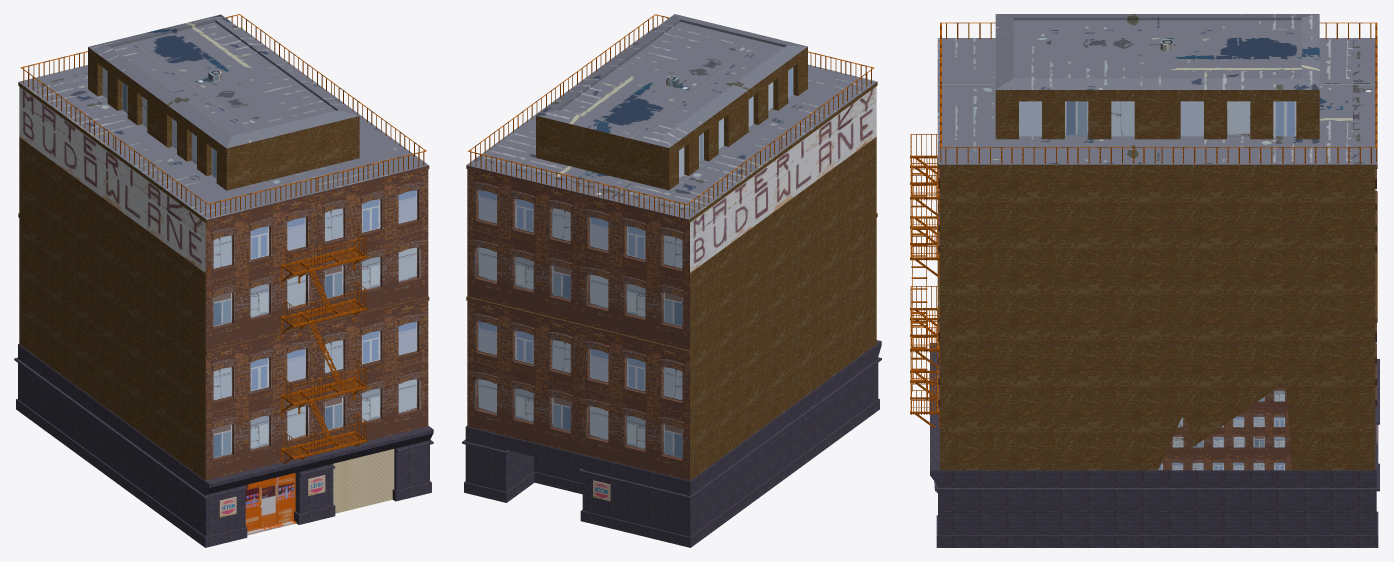
Rendered from A13_Destr.FBX.
3 renders of one model, left to right at view 1: azimuth 30°, elevation 25°; view 2: azimuth 150°, elevation 25°; view 3: azimuth 270°, elevation 25°, orthographic. The views are drawn at different scales.
Visible parts, largest first — view 1: K_Building_A13_00_Part_5, K_Building_A13_00_Part_11, K_Building_A13_00_Part_15, K_Building_A13_00_Part_6, K_Building_A13_00_Part_9, K_Building_A13_00_Part_12, K_Building_A13_00_Part_14, K_Building_A13_00_Part_4, K_Building_A13_00_Part_3; view 2: K_Building_A13_00_Part_6, K_Building_A13_00_Part_1, K_Building_A13_00_Part_12, K_Building_A13_00_Part_9, K_Building_A13_00_Part_4, K_Building_A13_00_Part_5, K_Building_A13_00_Part_14, K_Building_A13_00_Part_13, K_Building_A13_00_Part_15, K_Building_A13_00_Part_3, K_Building_A13_00_Part_11; view 3: K_Building_A13_00_Part_14, K_Building_A13_00_Part_10, K_Building_A13_00_Part_13, K_Building_A13_00_Part_7, K_Building_A13_00_Part_6, K_Building_A13_00_Part_11, K_Building_A13_00_Part_1, K_Building_A13_00_Part_8, K_Building_A13_00_Part_5, K_Building_A13_00_Part_15.
Boxes of the visible parts, box(x1,y1,x2,y2) form: K_Building_A13_00_Part_5: box(116, 90, 428, 327); K_Building_A13_00_Part_11: box(158, 309, 433, 547); K_Building_A13_00_Part_15: box(165, 289, 429, 516); K_Building_A13_00_Part_6: box(18, 14, 250, 221); K_Building_A13_00_Part_9: box(94, 127, 280, 378); K_Building_A13_00_Part_12: box(14, 215, 140, 500); K_Building_A13_00_Part_14: box(162, 40, 429, 273); K_Building_A13_00_Part_4: box(68, 246, 176, 512); K_Building_A13_00_Part_3: box(52, 160, 111, 249); K_Building_A13_00_Part_6: box(466, 88, 769, 358); K_Building_A13_00_Part_1: box(462, 321, 672, 543); K_Building_A13_00_Part_12: box(663, 310, 815, 547); K_Building_A13_00_Part_9: box(753, 120, 877, 283); K_Building_A13_00_Part_4: box(739, 248, 848, 455); K_Building_A13_00_Part_5: box(710, 22, 877, 152); K_Building_A13_00_Part_14: box(534, 14, 725, 114); K_Building_A13_00_Part_13: box(466, 89, 576, 324); K_Building_A13_00_Part_15: box(837, 238, 881, 415); K_Building_A13_00_Part_3: box(723, 187, 782, 313); K_Building_A13_00_Part_11: box(832, 379, 879, 443); K_Building_A13_00_Part_14: box(937, 16, 1237, 339); K_Building_A13_00_Part_10: box(1001, 165, 1281, 418); K_Building_A13_00_Part_13: box(1213, 84, 1377, 379); K_Building_A13_00_Part_7: box(979, 370, 1215, 547); K_Building_A13_00_Part_6: box(1167, 14, 1377, 285); K_Building_A13_00_Part_11: box(910, 332, 1035, 547); K_Building_A13_00_Part_1: box(1285, 338, 1379, 547); K_Building_A13_00_Part_8: box(1186, 379, 1296, 547); K_Building_A13_00_Part_5: box(910, 14, 1168, 311); K_Building_A13_00_Part_15: box(910, 218, 995, 370).
Bounding box in the file's own units: 1141 × 1793 × 1738.
